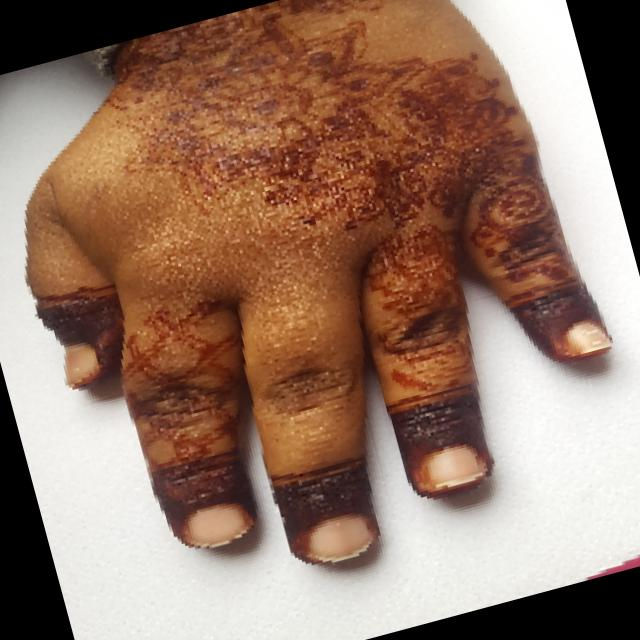Nail: (311, 513, 374, 562), (423, 444, 486, 490), (186, 503, 246, 546), (566, 322, 611, 355), (64, 342, 98, 385)
